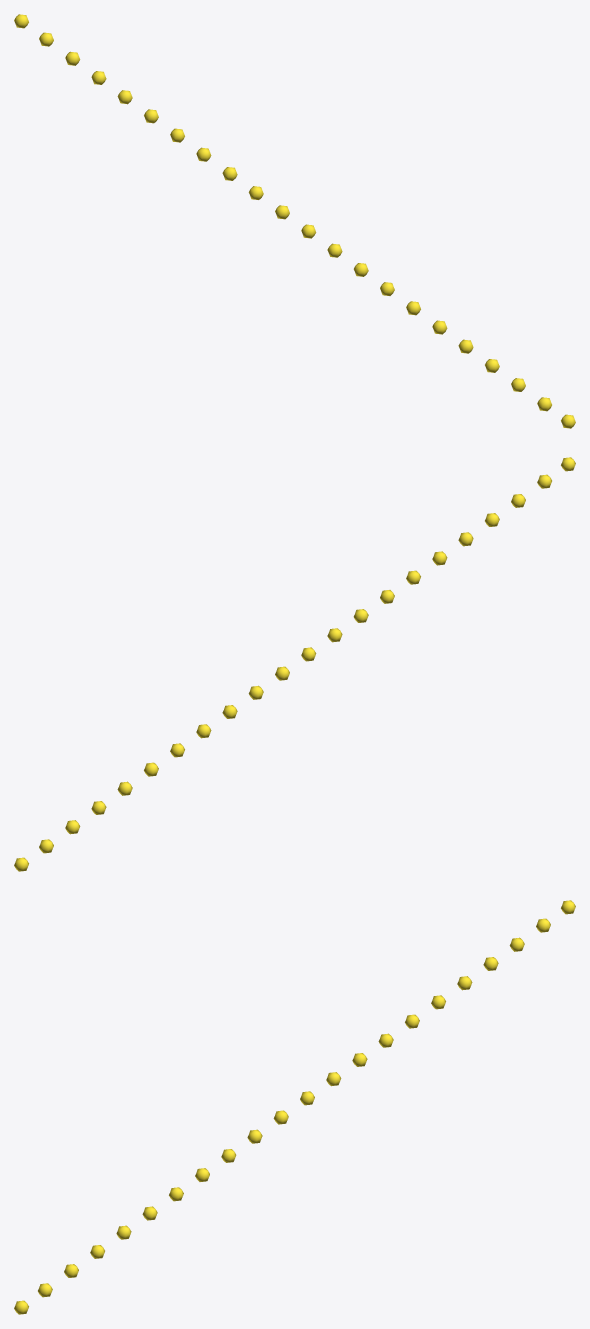
Rendered from SmallLine.fbx.
3 renders of one model, top to bottom at view 1: azimuth 30°, elevation 25°; view 2: azimuth 150°, elevation 25°; view 3: azimuth 330°, elevation 25°, orthographic.
Visible parts, largest first — view 1: SmallLine_LOD0; view 2: SmallLine_LOD0; view 3: SmallLine_LOD0.
Part boxes in pixels (x1,y1,x2,y2): SmallLine_LOD0: [14, 14, 575, 428]; SmallLine_LOD0: [14, 457, 575, 871]; SmallLine_LOD0: [14, 900, 575, 1314].
Size of what is drawn, in the model's own units: 3.14 by 3.14 by 235.
